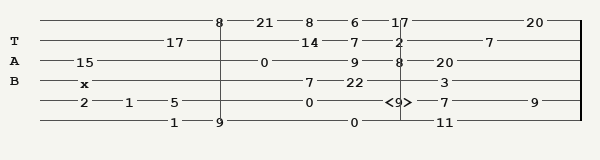0: (260, 54, 273, 67), (305, 94, 318, 107), (350, 114, 363, 127)
1: (125, 94, 138, 107), (170, 114, 183, 127)
11: (436, 114, 458, 127)
14: (301, 34, 323, 47)
15: (76, 54, 98, 67)
17: (166, 34, 188, 47), (391, 14, 413, 27)
2: (80, 94, 93, 107), (395, 34, 408, 47)
20: (436, 54, 458, 67), (526, 14, 548, 27)
21: (256, 14, 278, 27)
22: (346, 74, 368, 87)
3: (440, 74, 453, 87)
5: (170, 94, 183, 107)
6: (350, 14, 363, 27)
7: (305, 74, 318, 87), (350, 34, 363, 47), (440, 94, 453, 107), (485, 34, 498, 47)
8: (215, 14, 228, 27), (305, 14, 318, 27), (395, 54, 408, 67)
9: (215, 114, 228, 127), (350, 54, 363, 67), (530, 94, 543, 107)
harmonic: (385, 94, 418, 107)
x: (80, 75, 93, 85)
